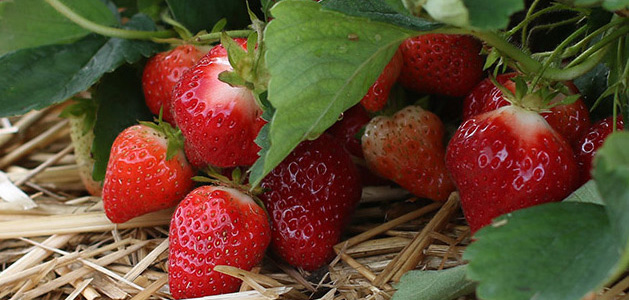ripe: (449, 100, 575, 248), (258, 107, 366, 274), (176, 42, 280, 172), (160, 185, 275, 295), (362, 95, 461, 208), (96, 121, 191, 223), (409, 26, 501, 102), (141, 44, 224, 122), (342, 21, 406, 115), (576, 115, 627, 182)
unripe: (64, 98, 110, 205)
